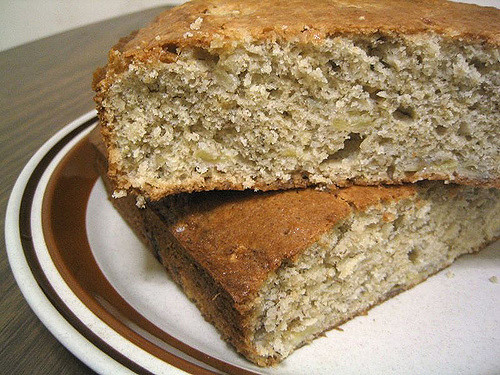slice of bread: (107, 28, 497, 176), (191, 203, 436, 293)
